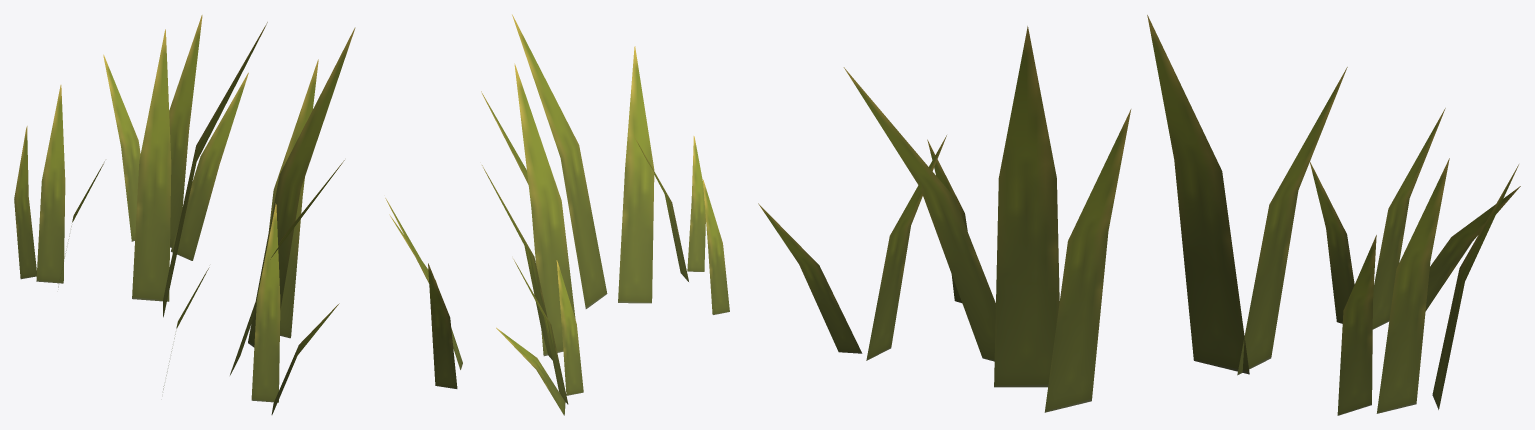
The model's file is scenes_village_grass01a.FBX.
3 views of the same model, side by side, from view 1: azimuth 30°, elevation 25°; view 2: azimuth 150°, elevation 25°; view 3: azimuth 270°, elevation 25° (orthographic). The views are drawn at different scales.
Visible parts, largest first — view 1: scenes_village_grass01a; view 2: scenes_village_grass01a; view 3: scenes_village_grass01a.
Part boxes in pixels (x1,y1,x2,y2): scenes_village_grass01a: (14, 15, 355, 414); scenes_village_grass01a: (385, 14, 729, 415); scenes_village_grass01a: (758, 15, 1520, 415).
Bounding box in the file's own units: 34.66 × 42.64 × 68.09.
